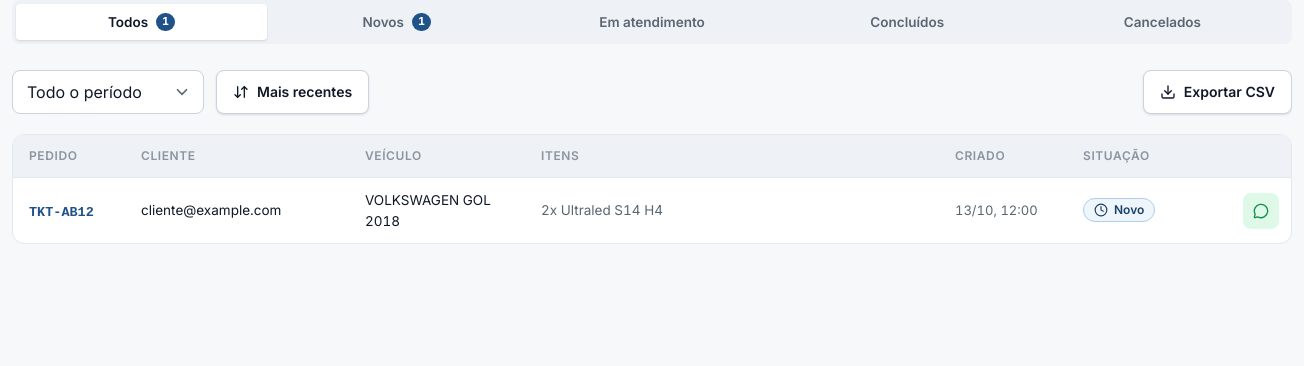
Test: TicketQueue › avisa quando nenhum pedido passa pelo filtro
Expected: the table is shown, [13,135,1291,243]
Replace the text in the search field labelled "Buscar pedido…" with "nao-existe-nada-assim". click: (652, 89)
box: [12,64,1292,114]
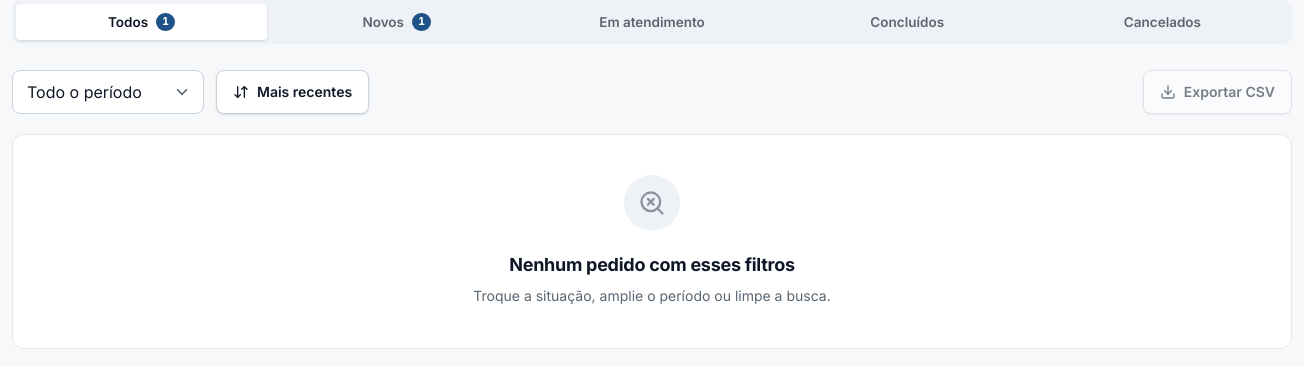
Now the heading "Nenhum pedido com esses filtros" is shown, box [509,254,795,275]
